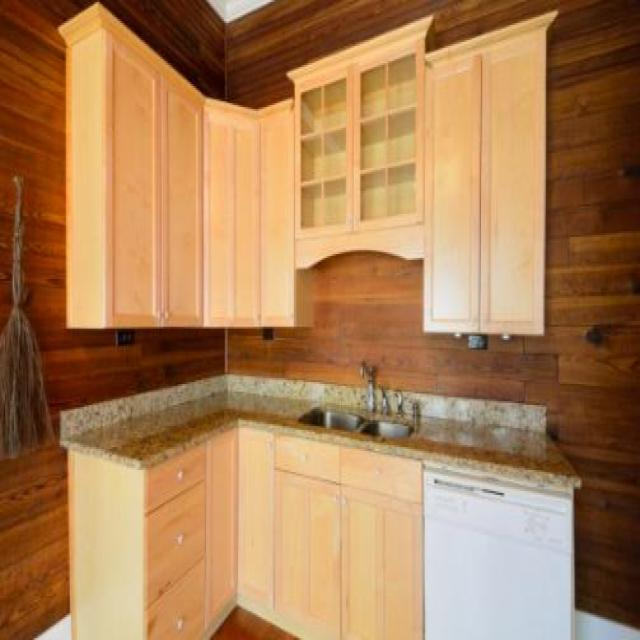dishwasher: (422, 462, 570, 638)
